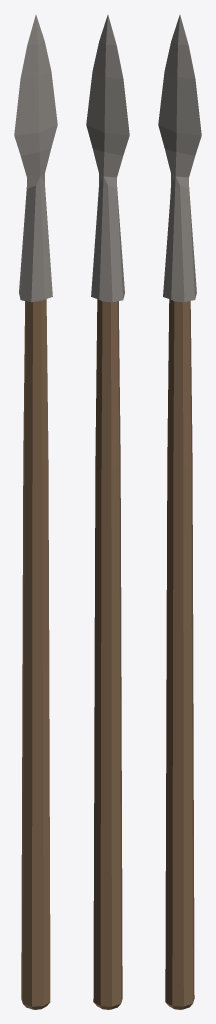
The model's file is SM_pwe_medieval_spear_02c.fbx.
3 renders of one model, left to right at view 1: azimuth 30°, elevation 25°; view 2: azimuth 150°, elevation 25°; view 3: azimuth 330°, elevation 25°, orthographic.
Visible parts, largest first — view 1: SM_pwe_medieval_spear_02c; view 2: SM_pwe_medieval_spear_02c; view 3: SM_pwe_medieval_spear_02c.
Boxes of the visible parts, bbox=[...] form: SM_pwe_medieval_spear_02c: bbox=[14, 15, 57, 1009]; SM_pwe_medieval_spear_02c: bbox=[86, 15, 129, 1009]; SM_pwe_medieval_spear_02c: bbox=[158, 15, 201, 1009].
Size of the model in its own units: 8.15 by 178 by 5.7.
